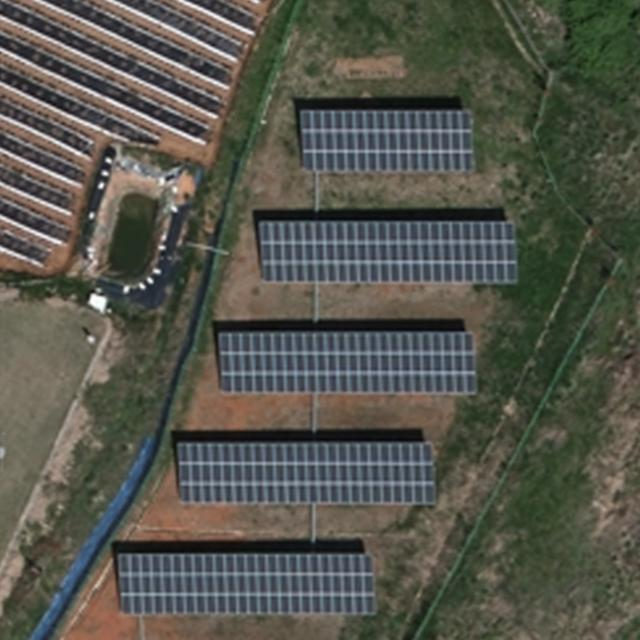panel: (250, 215, 523, 287), (213, 326, 477, 399), (113, 550, 379, 622), (172, 439, 438, 508), (296, 106, 477, 176)
